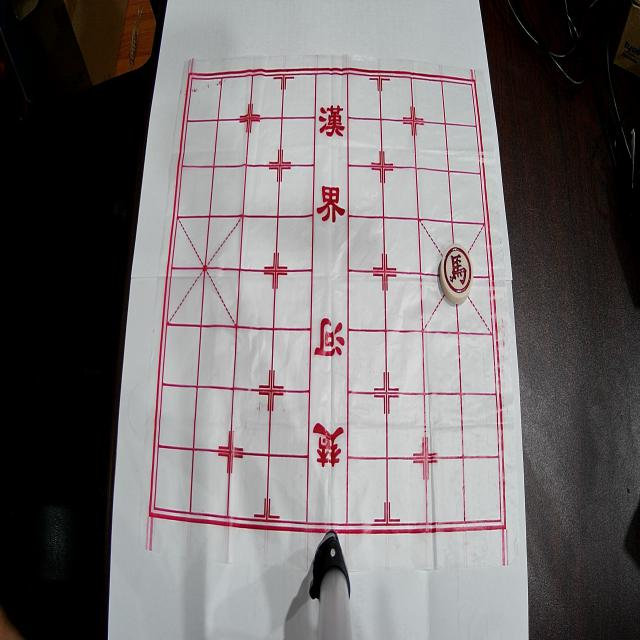red-horse: (439, 244, 474, 304)
